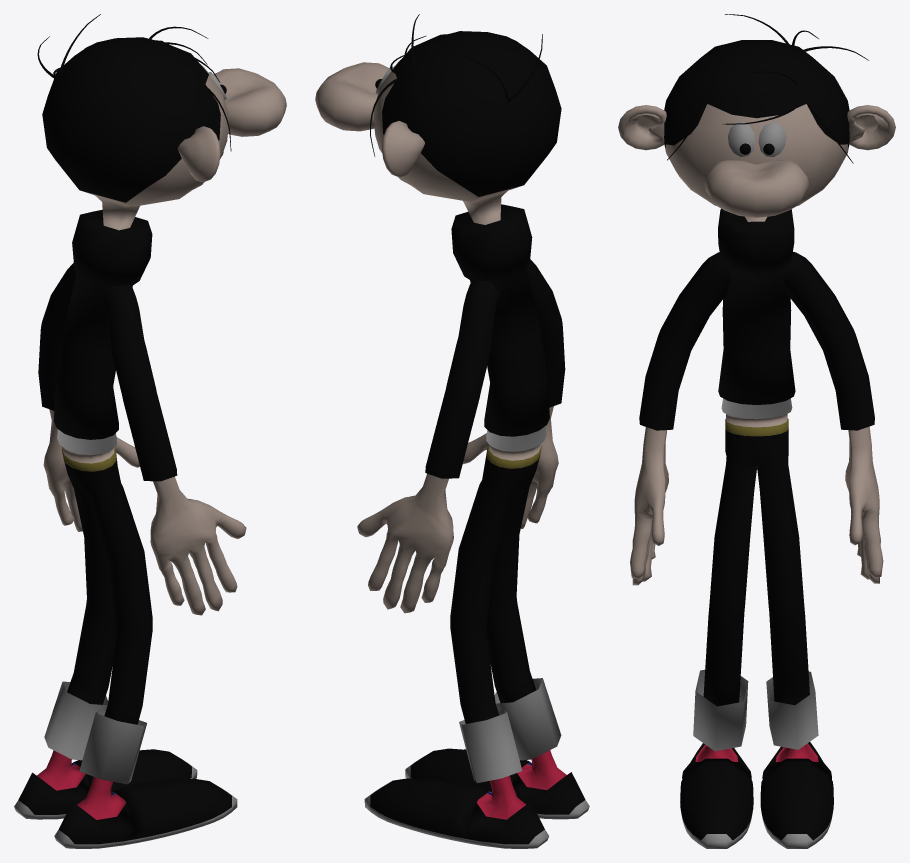
The model's file is spectator_black_short.dae.
3 renders of one model, left to right at view 1: azimuth 30°, elevation 25°; view 2: azimuth 150°, elevation 25°; view 3: azimuth 270°, elevation 25°, orthographic.
Parts seen in each view (by area): view 1: gaston; view 2: gaston; view 3: gaston.
Boxes of the visible parts, x1,y1,x2,y2 form: gaston: [14, 14, 286, 848]; gaston: [315, 14, 589, 848]; gaston: [618, 14, 895, 848].
Size of the model in its own units: 0.388 by 0.3894 by 1.19.
